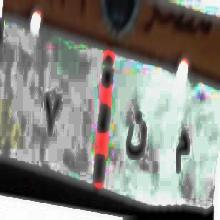7: (41, 85, 61, 145)
meem: (172, 123, 189, 185)
noon: (124, 104, 148, 172)
